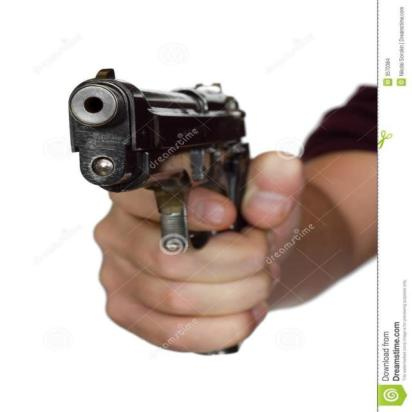Gun: (54, 63, 271, 361)
